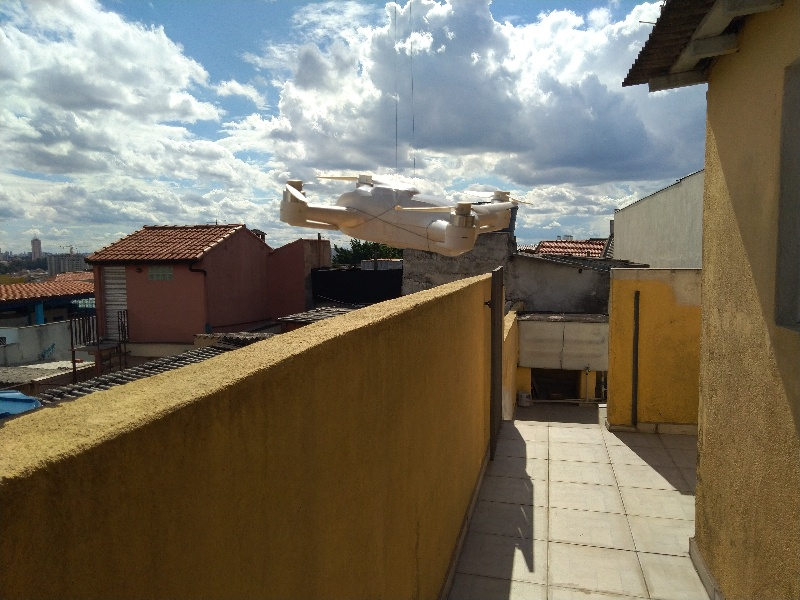drone: (277, 165, 526, 261)
